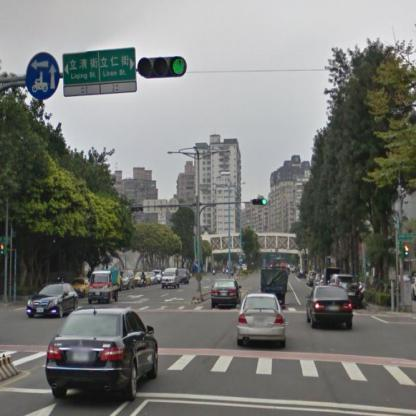Green Light: (138, 55, 186, 76), (250, 196, 268, 206)
